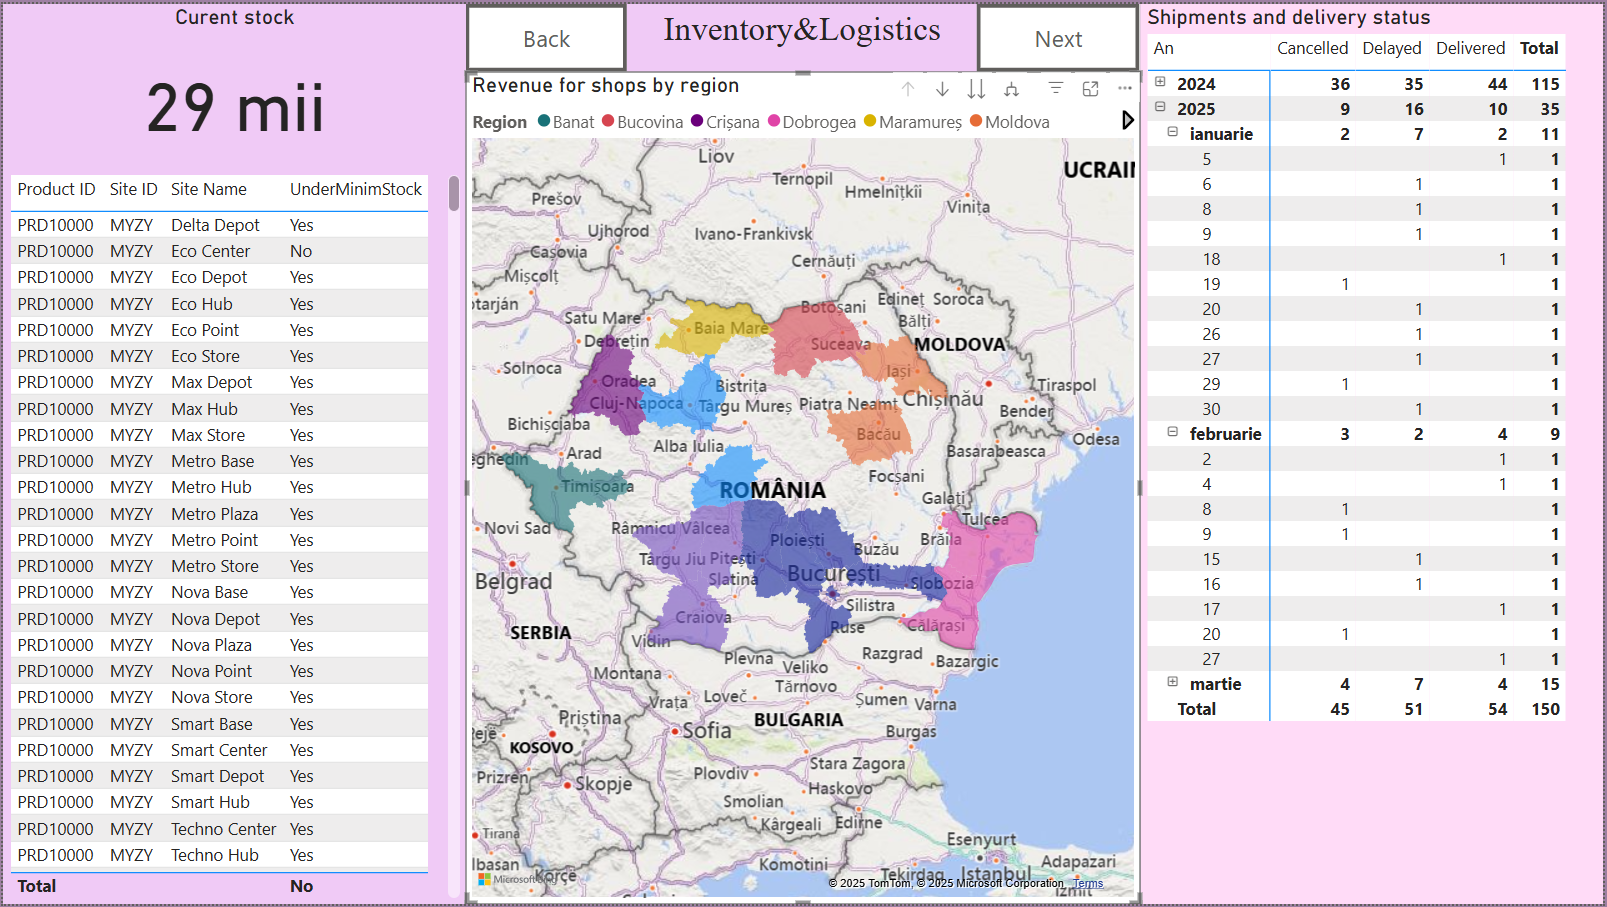

What the dashboard file says about the page in this screenshot:
{"tool":"powerbi","page":{"name":"Inventory&Logistics","canvas":[1280,720],"ordinal":3},"visuals":[{"type":"textbox","box":[499.5,0,279.9,53.5],"z":0,"group":"g1"},{"type":"group","id":"g1","title":"Grup 1","box":[370.5,0,539.3,53.5],"z":0},{"type":"actionButton","box":[370.5,0,129,53.5],"z":1000,"group":"g1"},{"type":"filledMap","title":"Revenue for shops by region ","fields":{"Series":["stats_site_details_clean.Region"],"Category":["stats_site_details_clean.County","stats_site_details_clean.City"]},"box":[370,54,540,666],"z":1000},{"type":"actionButton","box":[779.4,0,130.4,53.5],"z":2000,"group":"g1"},{"type":"pivotTable","title":"Shipments and delivery status","fields":{"Rows":["stats_logistics_data_clean.Shipment Date.Variație.Ierarhie de date.An","stats_logistics_data_clean.Shipment Date.Variație.Ierarhie de date.Lună","stats_logistics_data_clean.Shipment Date.Variație.Ierarhie de date.Zi"],"Columns":["stats_logistics_data_clean.Delivery Status"],"Values":["stats_logistics_data_clean.NumberShipments"]},"box":[910,0,370,720],"z":2000},{"type":"card","title":"Curent stock","fields":{"Values":["stats_inventory_data_clean.Ending Inventory"]},"box":[0,0,370,132],"z":3000},{"type":"tableEx","fields":{"Values":["stats_inventory_data_clean.Product ID","stats_inventory_data_clean.Site ID","stats_site_details_clean.Site Name","stats_inventory_data_clean.UnderMinimStock"]},"box":[0,132,370,588],"z":4000}]}

Visuals, with their boxes in screenshot pixels (x1, y1, x2, y2), scaled from the page's 1280x720 canvas onto the 1607x907 screenshot:
textbox: BBox(627, 0, 979, 67)
"Grup 1" group: BBox(465, 0, 1142, 67)
actionButton: BBox(465, 0, 627, 67)
"Revenue for shops by region " filledMap: BBox(465, 68, 1142, 906)
actionButton: BBox(979, 0, 1142, 67)
"Shipments and delivery status" pivotTable: BBox(1142, 0, 1606, 906)
"Curent stock" card: BBox(0, 0, 465, 166)
tableEx - stats_inventory_data_clean.Product ID x stats_inventory_data_clean.Site ID: BBox(0, 166, 465, 906)
